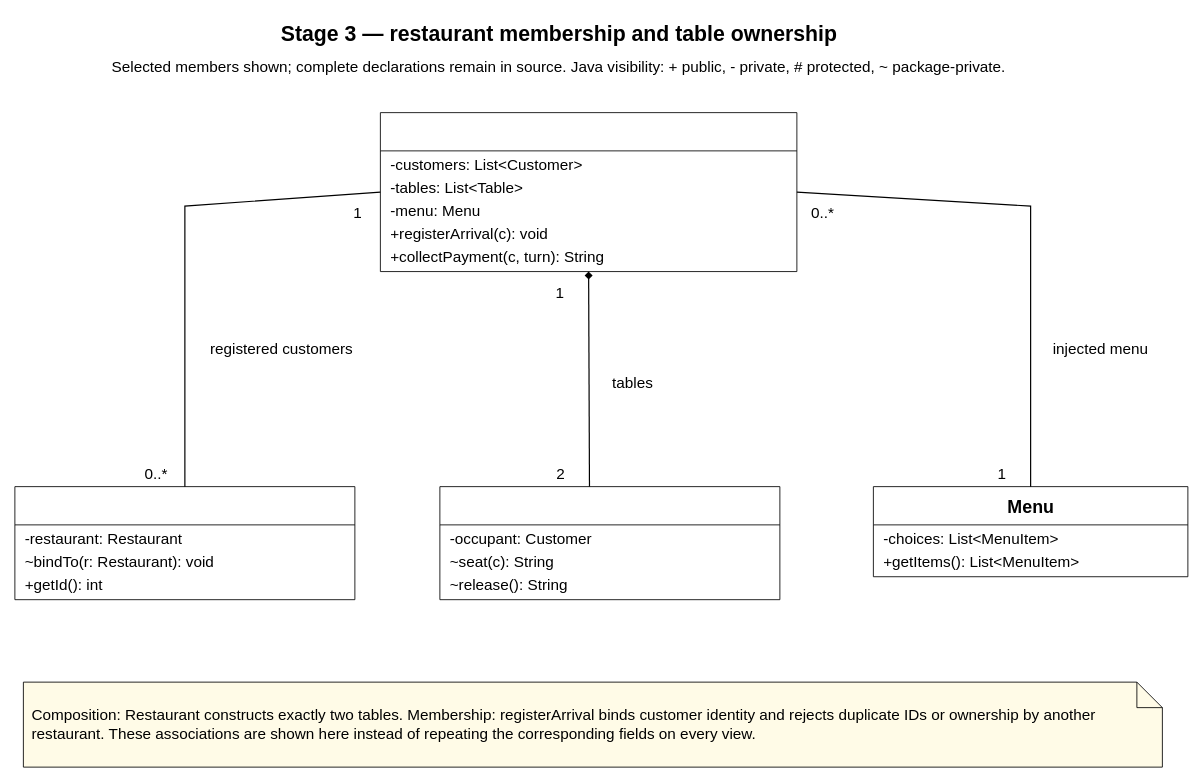
This 1203x782 diagram has some shape labels left out. Here are the shapes that lost their labels. From the top down, the box of each, then its label:
(380, 112, 797, 272): Restaurant
(14, 486, 355, 600): Customer
(439, 486, 780, 600): Table
